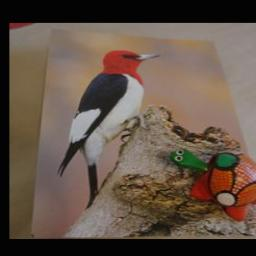Woodpecker: (56, 47, 159, 210)
